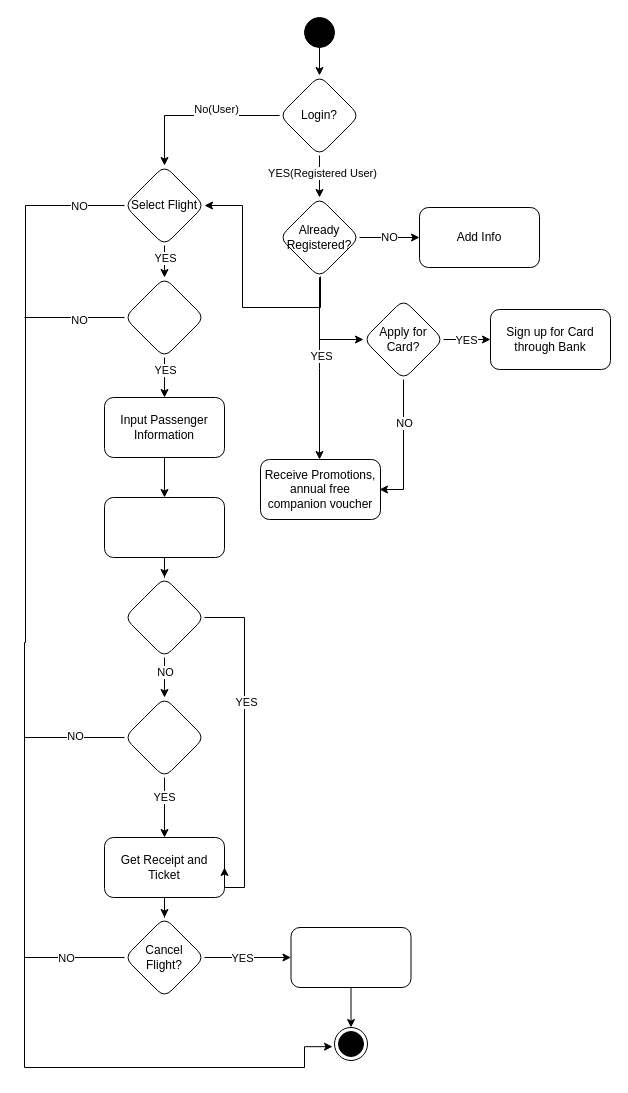
Image size: 628x1093. Some labels were removed from this diagram. The box of each missing label's shape, as (x1, y1, x2, y2) in pixels:
Have Voucher?: (124, 576, 204, 658)
Make Payment: (124, 696, 204, 778)
Refund Flight: (290, 926, 411, 988)
Select Insurance Option: (104, 496, 224, 558)
Select Seat: (124, 276, 204, 358)
